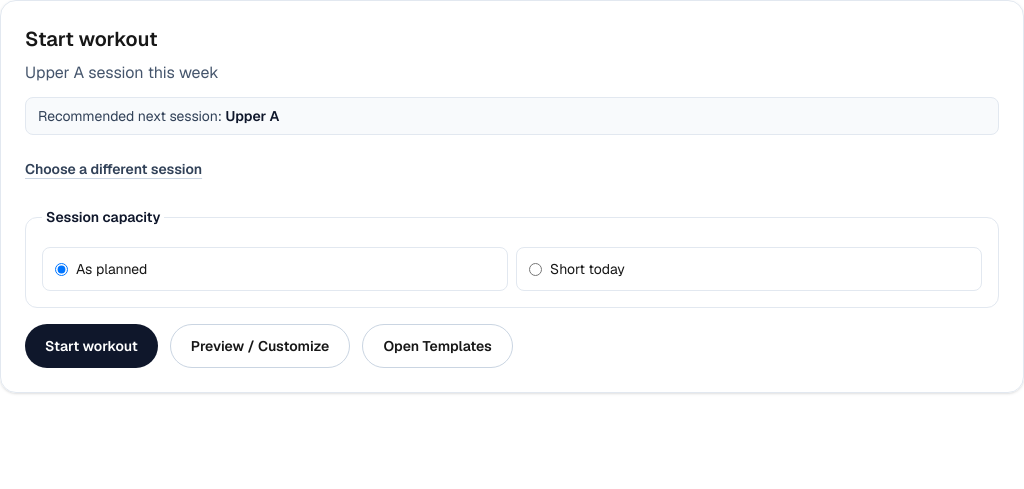
IntentWorkoutCard › shows fail-closed copy without exposing manifest or hash internals
Click the radio button labelled "Short today".
click(536, 269)  # box [529,262,542,276]
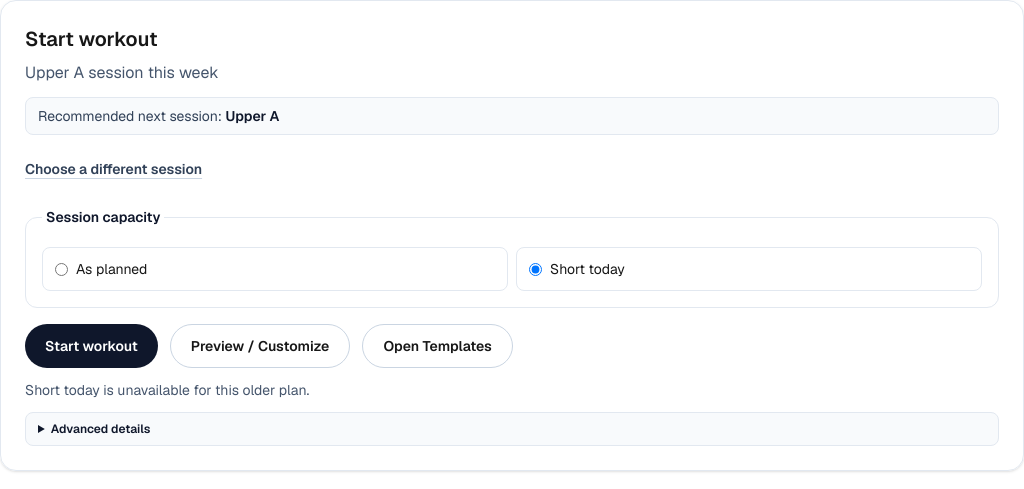
expect the text "Short today is unavailable for this older plan." is shown: met, box [25,381,309,399]
